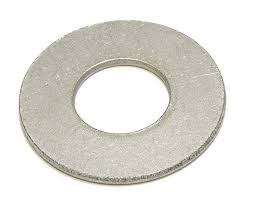No thread: (66, 48, 177, 132)
